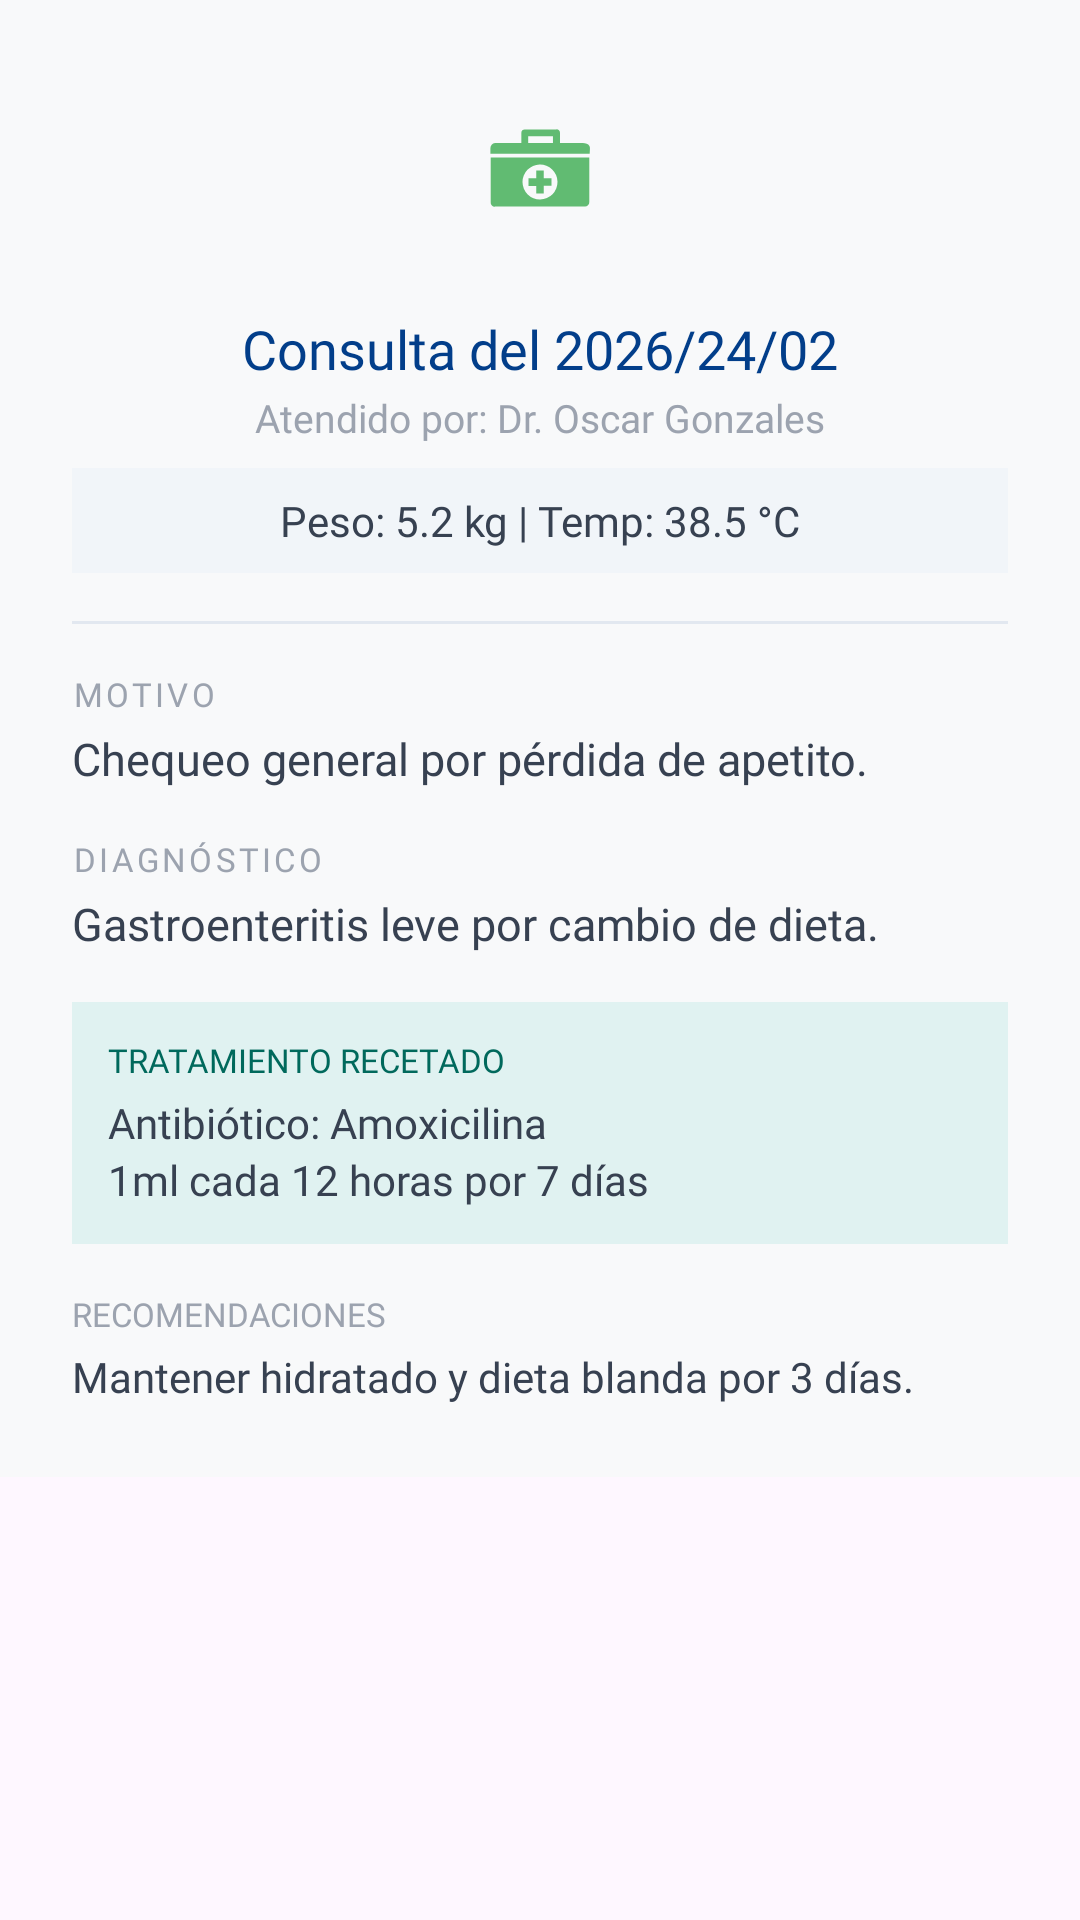

Icon click points for this 1080×1920 phone screenshot, format point (x, y):
medical services: point (540, 168)
